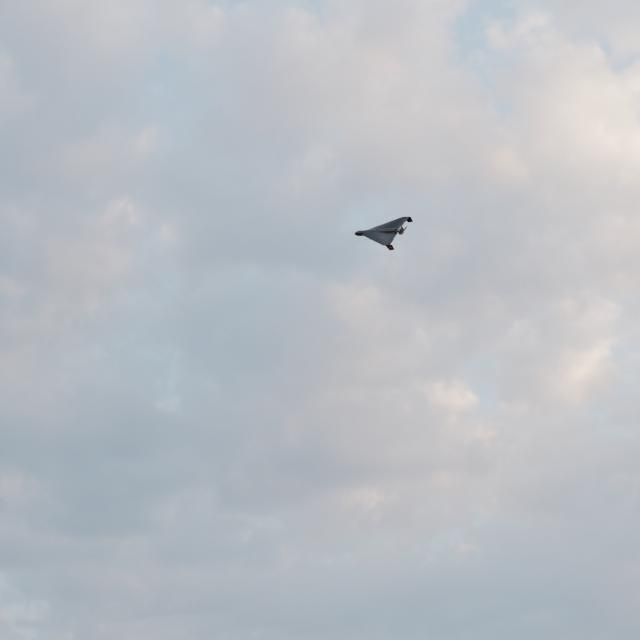Airaplan: (354, 217, 413, 251)
